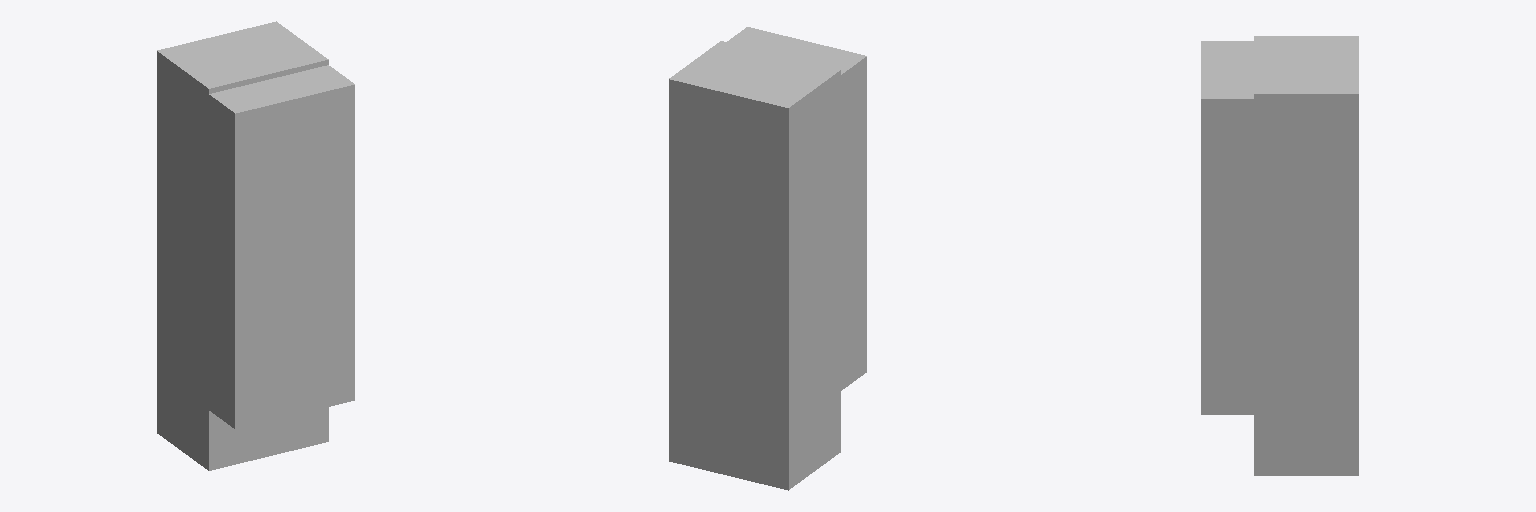
File: clu_door_right.obj
3 views of the same model, side by side, from view 1: azimuth 30°, elevation 25°; view 2: azimuth 150°, elevation 25°; view 3: azimuth 270°, elevation 25° (orthographic).
Visible parts, largest first — view 1: rightbottom2, righttop2, rightbottom, righttop; view 2: rightbottom, righttop, righttop2, rightbottom2; view 3: rightbottom, righttop, righttop2, rightbottom2.
Part boxes in pixels (x1,y1,x2,y2): rightbottom2: (209,213,354,429); righttop2: (209,65,354,241); rightbottom: (157,185,328,470); righttop: (157,21,328,222); rightbottom: (669,204,840,490); righttop: (669,41,840,241); righttop2: (727,27,866,203); rightbottom2: (841,185,866,390); rightbottom: (1254,228,1358,475); righttop: (1254,36,1358,227); righttop2: (1201,41,1253,227); rightbottom2: (1201,228,1253,414).
Bounding box in the file's own units: 1.38 × 4.22 × 1.58.